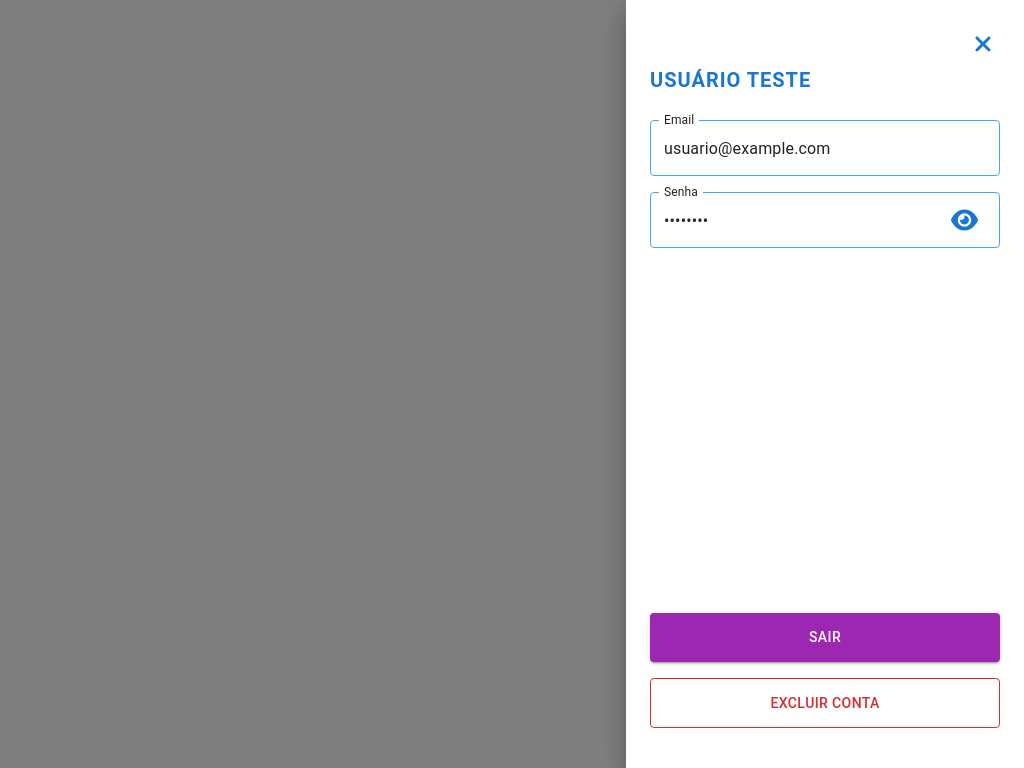
Scenario: DadosUsuario Component › toggles password visibility
The image size is (1024, 768).
Check: the password field showing "senha123" is shown, box [650, 192, 935, 248]
Click the button named "alternar visibilidade da senha". click: (964, 220)
box: [943, 200, 986, 240]
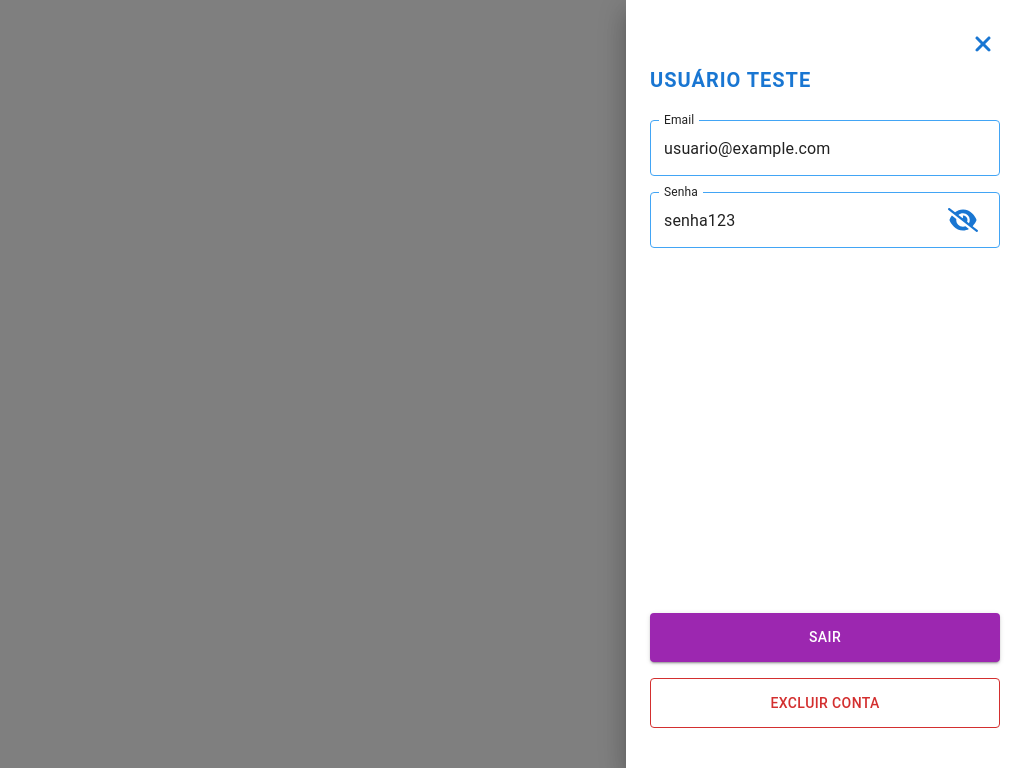
Check: the field showing "senha123" shows its text, box [650, 192, 932, 248]
